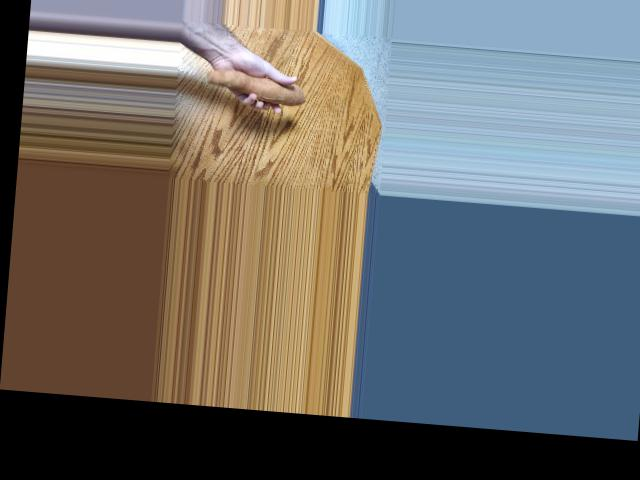sweet_potato: (195, 58, 309, 109)
